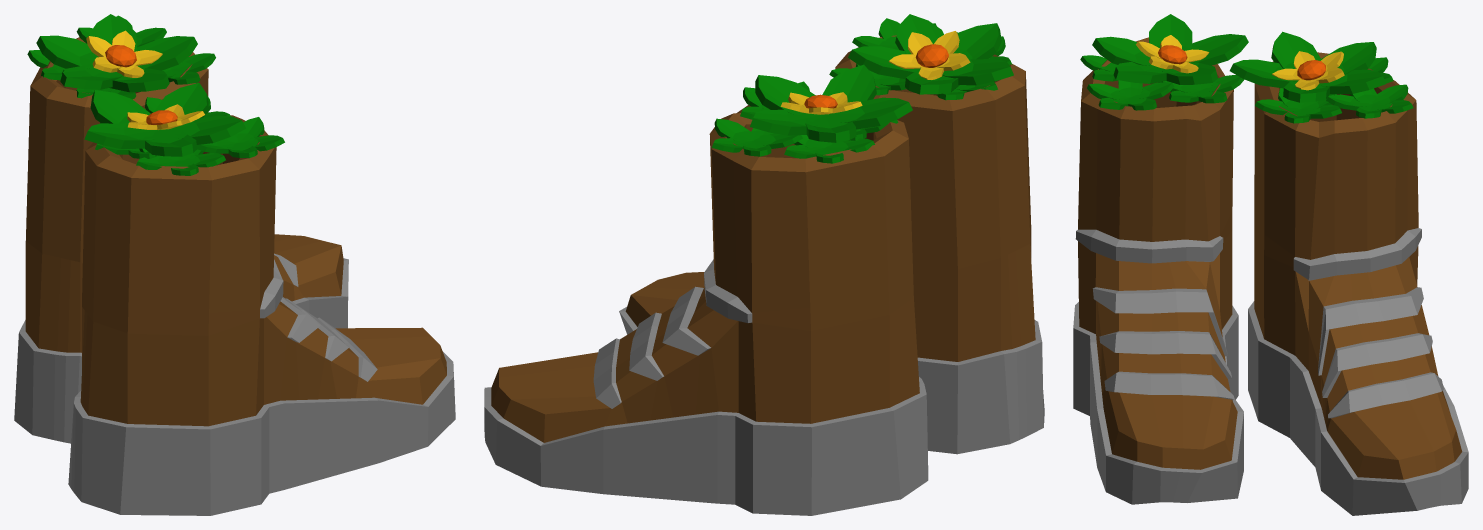
Rendered from OldBoots.fbx.
3 views of the same model, side by side, from view 1: azimuth 30°, elevation 25°; view 2: azimuth 150°, elevation 25°; view 3: azimuth 270°, elevation 25° (orthographic). The views are drawn at different scales.
Parts seen in each view (by area): view 1: LostBoots; view 2: LostBoots; view 3: LostBoots.
Boxes of the visible parts, left/top/right/bottom form: LostBoots: left=14, top=14, right=455, bottom=515; LostBoots: left=484, top=14, right=1044, bottom=515; LostBoots: left=1073, top=14, right=1468, bottom=515.
Bounding box in the file's own units: 8.05 × 7.01 × 7.28.
